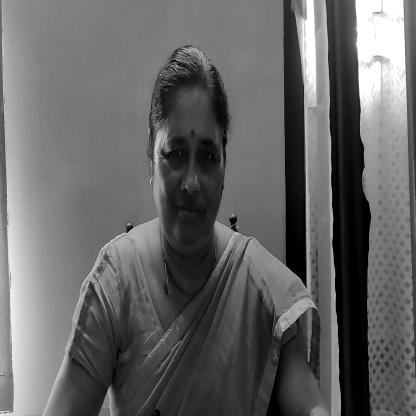Normal: (147, 45, 232, 255)
